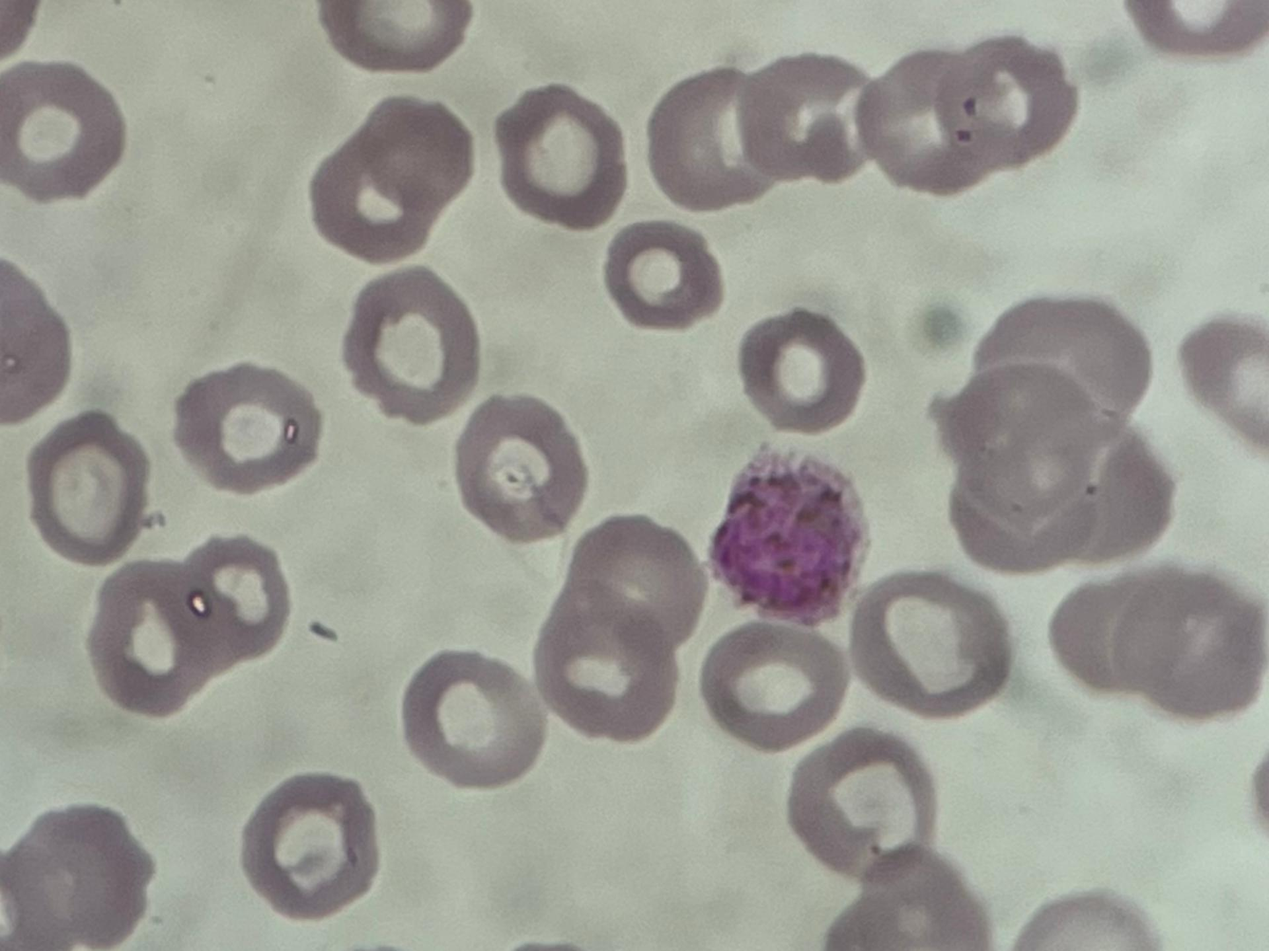Infected: (397, 329, 563, 504)
Uninfected: (169, 422, 344, 583), (261, 227, 416, 380), (0, 232, 155, 381), (119, 524, 297, 653), (587, 212, 736, 365), (332, 71, 479, 221), (1117, 0, 1269, 144), (1048, 230, 1178, 394), (263, 754, 407, 901), (793, 529, 925, 689), (891, 28, 1031, 173), (946, 455, 1096, 586), (724, 166, 874, 296), (188, 782, 333, 915), (390, 765, 537, 896), (423, 199, 571, 329), (563, 298, 703, 435), (1120, 385, 1245, 538), (489, 739, 624, 880), (681, 410, 812, 554), (646, 724, 776, 863), (1143, 747, 1269, 886), (405, 516, 538, 641), (978, 275, 1095, 413), (834, 688, 958, 818), (540, 622, 668, 728), (796, 745, 909, 858)
